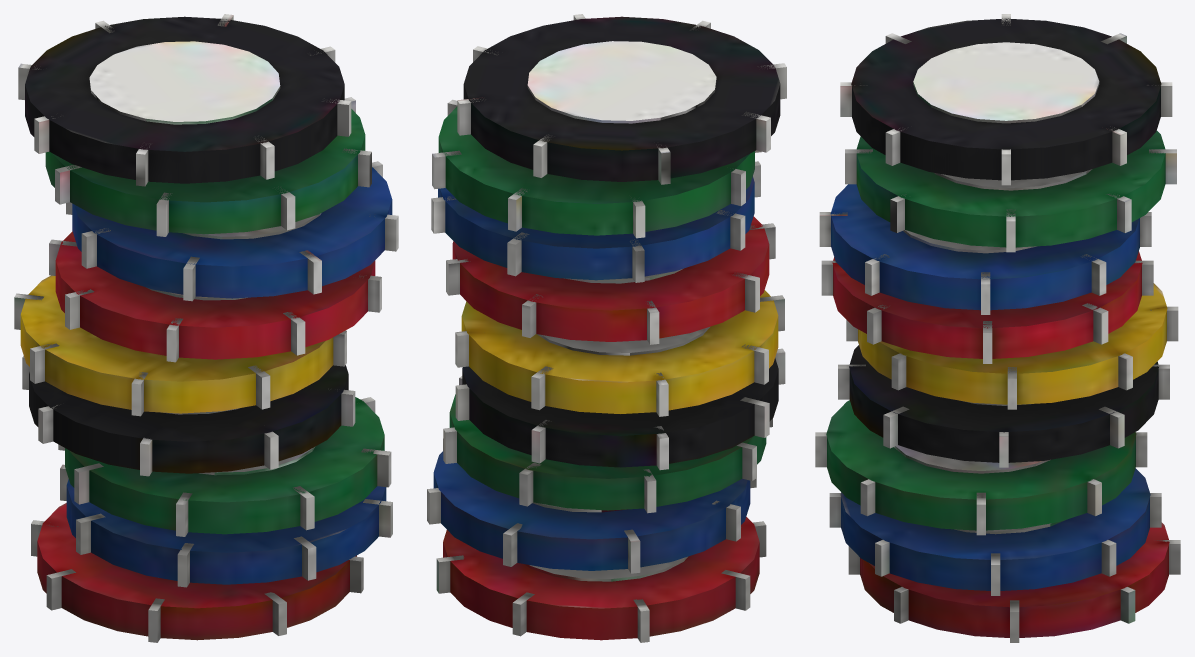
The model's file is pila_fichas.glb.
3 views of the same model, side by side, from view 1: azimuth 30°, elevation 25°; view 2: azimuth 150°, elevation 25°; view 3: azimuth 270°, elevation 25° (orthographic). The views are drawn at different scales.
Parts seen in each view (by area): view 1: pila_fichas; view 2: pila_fichas; view 3: pila_fichas.
Part boxes in pixels (left/top/right/bottom): pila_fichas: left=14, top=14, right=398, bottom=642; pila_fichas: left=427, top=14, right=786, bottom=642; pila_fichas: left=815, top=14, right=1180, bottom=642.
Bounding box in the file's own units: 1.33 × 1.89 × 1.3.
Materials: 1 (1 with a texture image).
